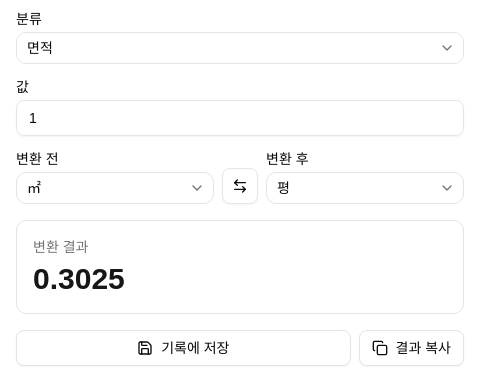
Test: UnitCalculator › swaps the from/to units and keeps the value
Click the button named "단위 바꾸기": (240, 186) [222, 168, 258, 204]
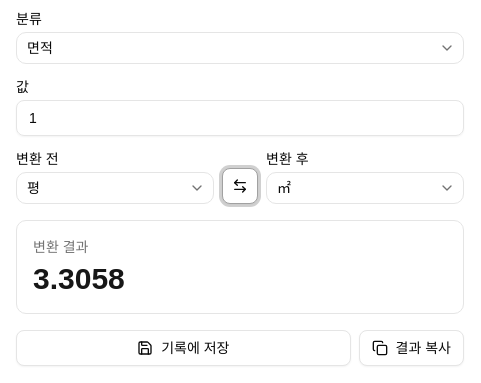
Now the text "3.3058" is shown, box [33, 262, 125, 295]
